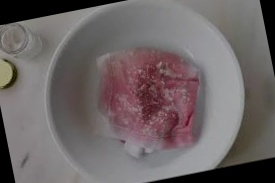wine: (95, 55, 206, 151)
